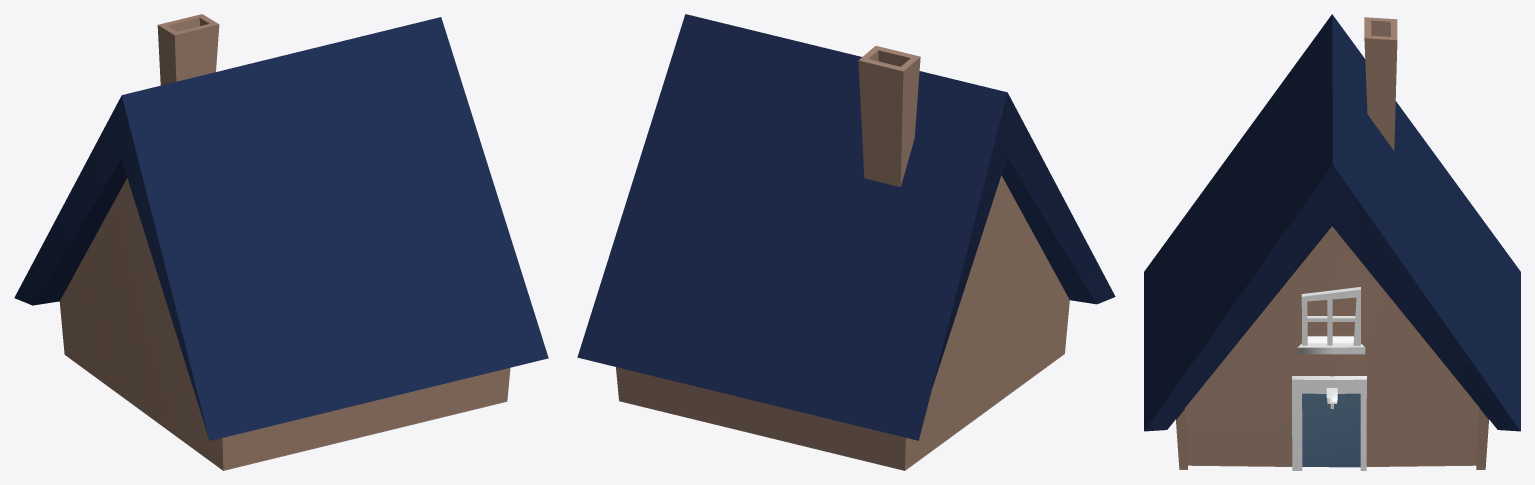
The model's file is House.fbx.
3 views of the same model, side by side, from view 1: azimuth 30°, elevation 25°; view 2: azimuth 150°, elevation 25°; view 3: azimuth 270°, elevation 25° (orthographic). The views are drawn at different scales.
Parts seen in each view (by area): view 1: House; view 2: House; view 3: House.
Part boxes in pixels (x1,y1,x2,y2): House: (14, 14, 548, 470); House: (577, 14, 1115, 470); House: (1144, 14, 1520, 470).
Size of the model in its own units: 1.35 by 1.34 by 1.35.
